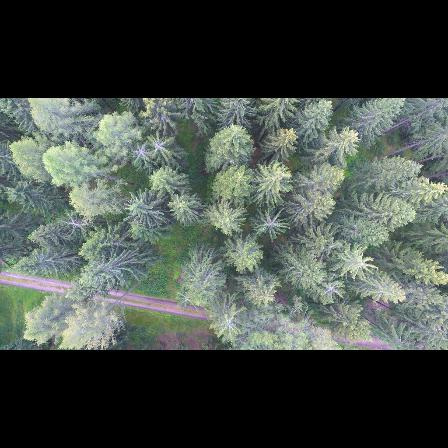Sick: (255, 210, 289, 242), (210, 310, 244, 340), (144, 134, 179, 158), (172, 288, 199, 311), (127, 145, 154, 167), (318, 279, 344, 299)
